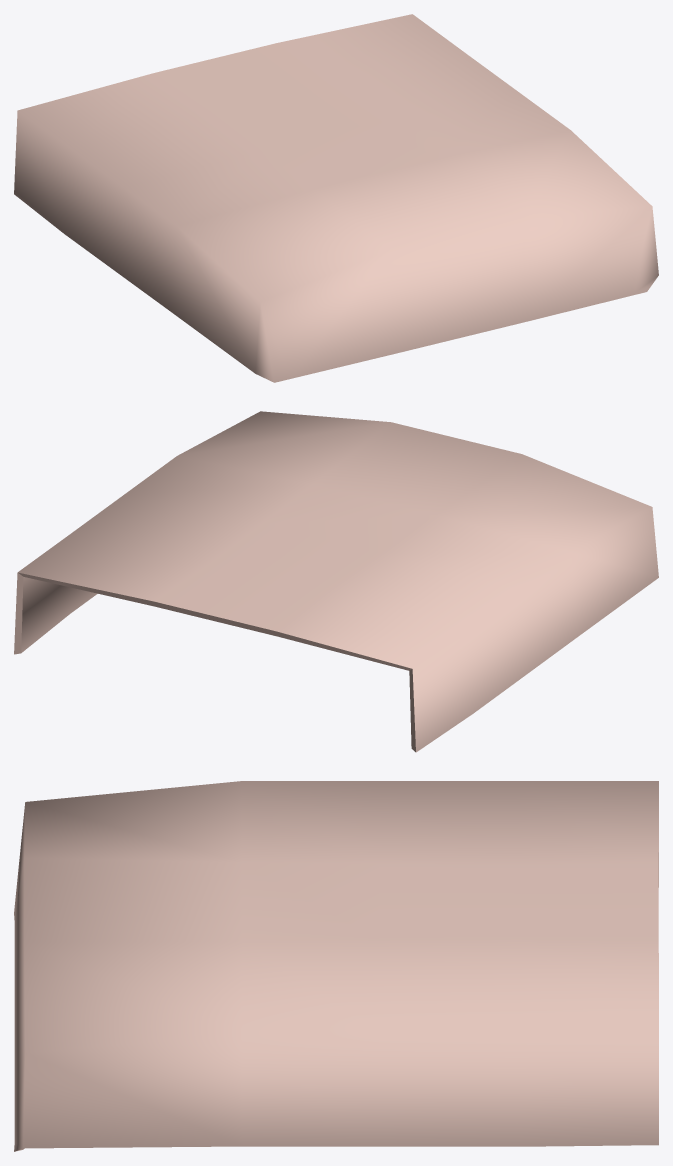
File: NiceSheet.fbx
The picture shows the model from 3 angles, top to bottom: view 1: azimuth 30°, elevation 25°; view 2: azimuth 150°, elevation 25°; view 3: azimuth 270°, elevation 25°; orthographic projection. The views are drawn at different scales.
Parts seen in each view (by area): view 1: NiceSHeet; view 2: NiceSHeet; view 3: NiceSHeet.
Boxes of the visible parts, <box> form: NiceSHeet: <box>14,14,658,382</box>; NiceSHeet: <box>14,411,658,752</box>; NiceSHeet: <box>14,781,658,1151</box>.
Bounding box in the file's own units: 2.99 × 0.7105 × 3.12.
